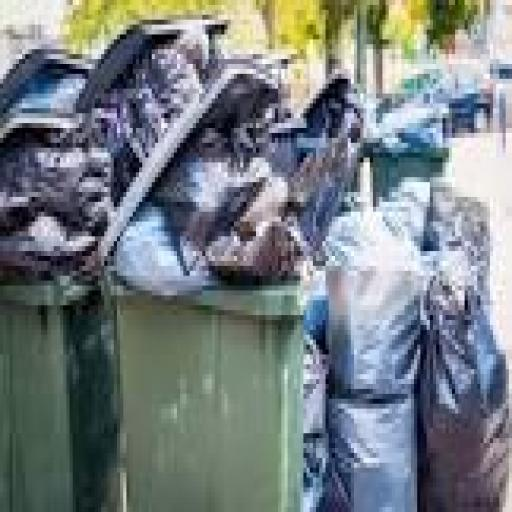poubelle_pleine: (126, 64, 351, 512), (0, 40, 136, 512), (72, 26, 240, 272), (366, 75, 462, 281)
